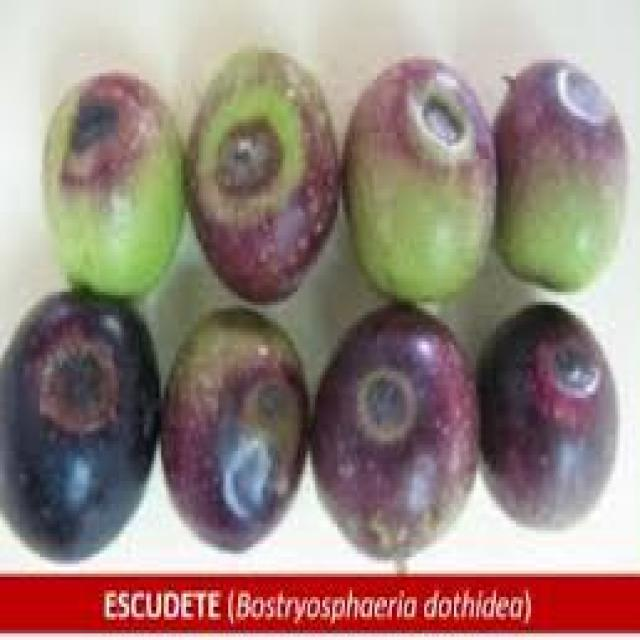Olive Fruit Fly: (0, 292, 156, 557), (313, 305, 476, 554), (345, 63, 494, 298), (191, 50, 332, 292), (161, 312, 305, 547), (45, 70, 184, 292), (496, 60, 628, 290), (481, 305, 613, 524)
